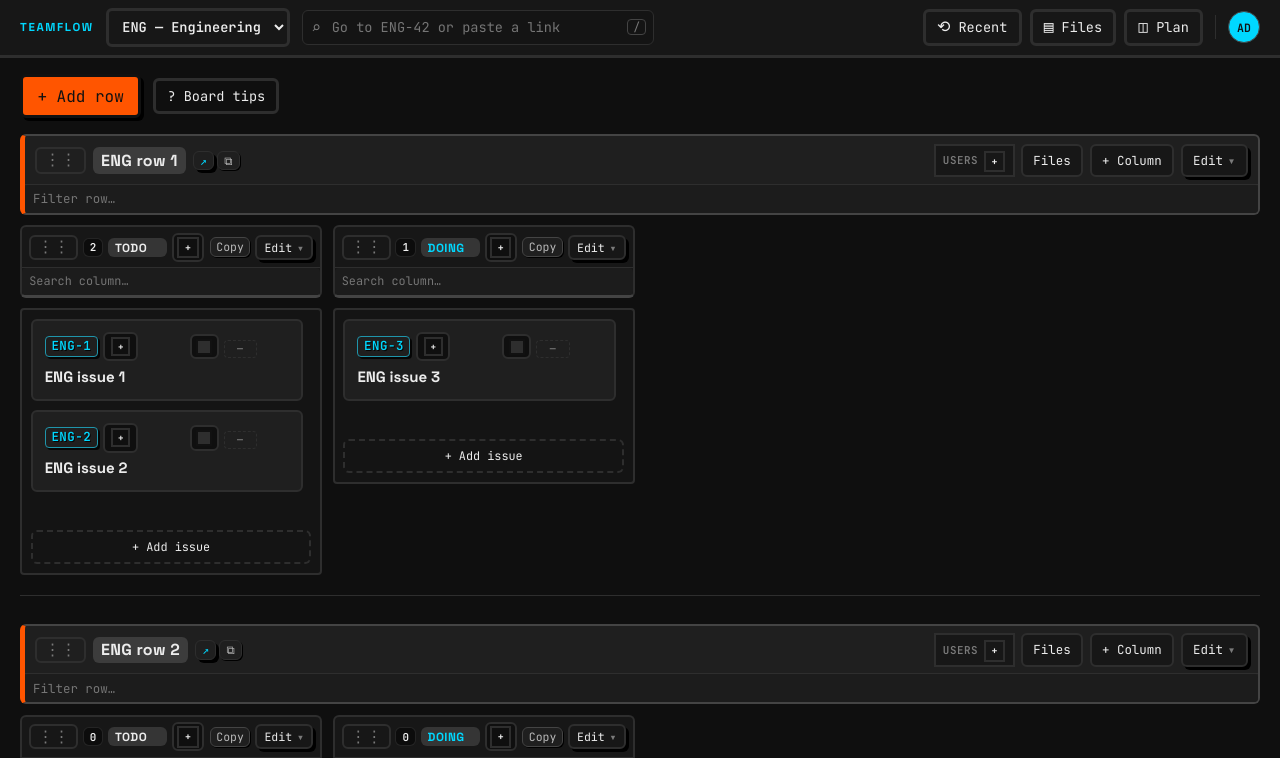
Scenario: routing › opens the drawer from the issue URL and closes it with browser Back
Step 1. Click the button "ENG issue 2" → (167, 468), box [45,458,289,479]
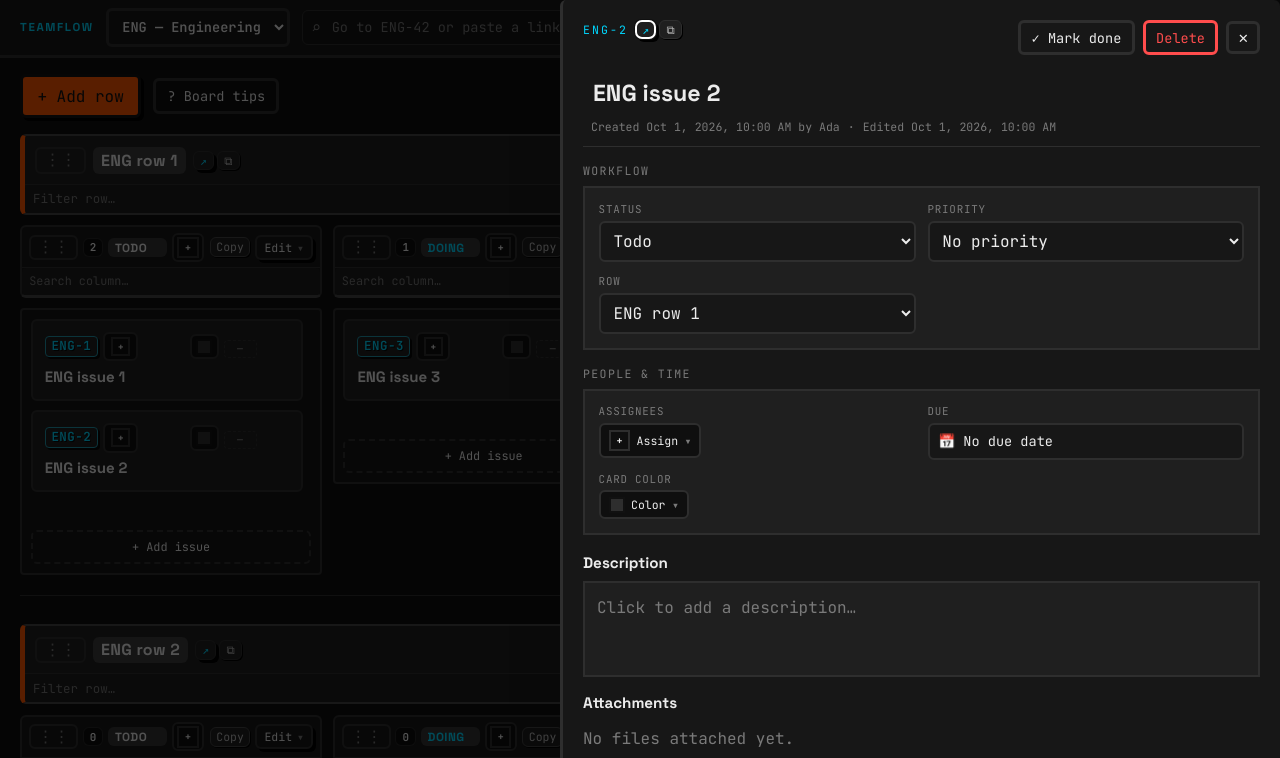
expect the field named "Issue title" holds "ENG issue 2": met, box [583,71,1260,115]
